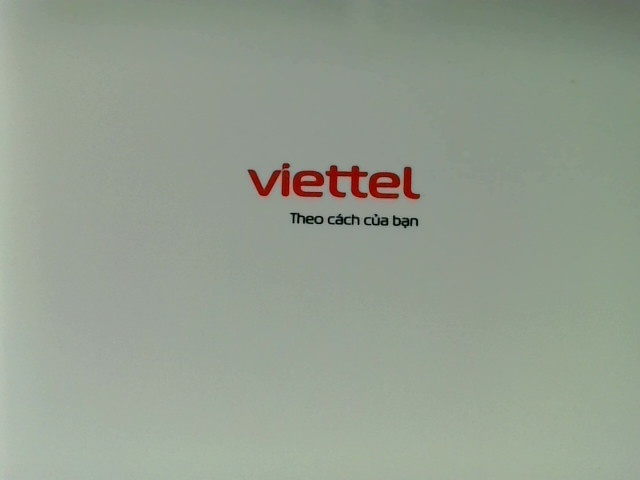AY_Viettel: (242, 155, 425, 236)
